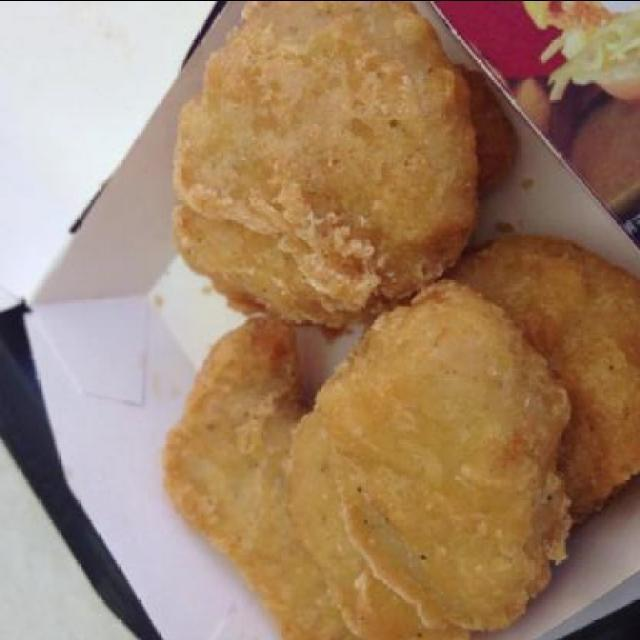Chicken nugget: (151, 1, 638, 636)
